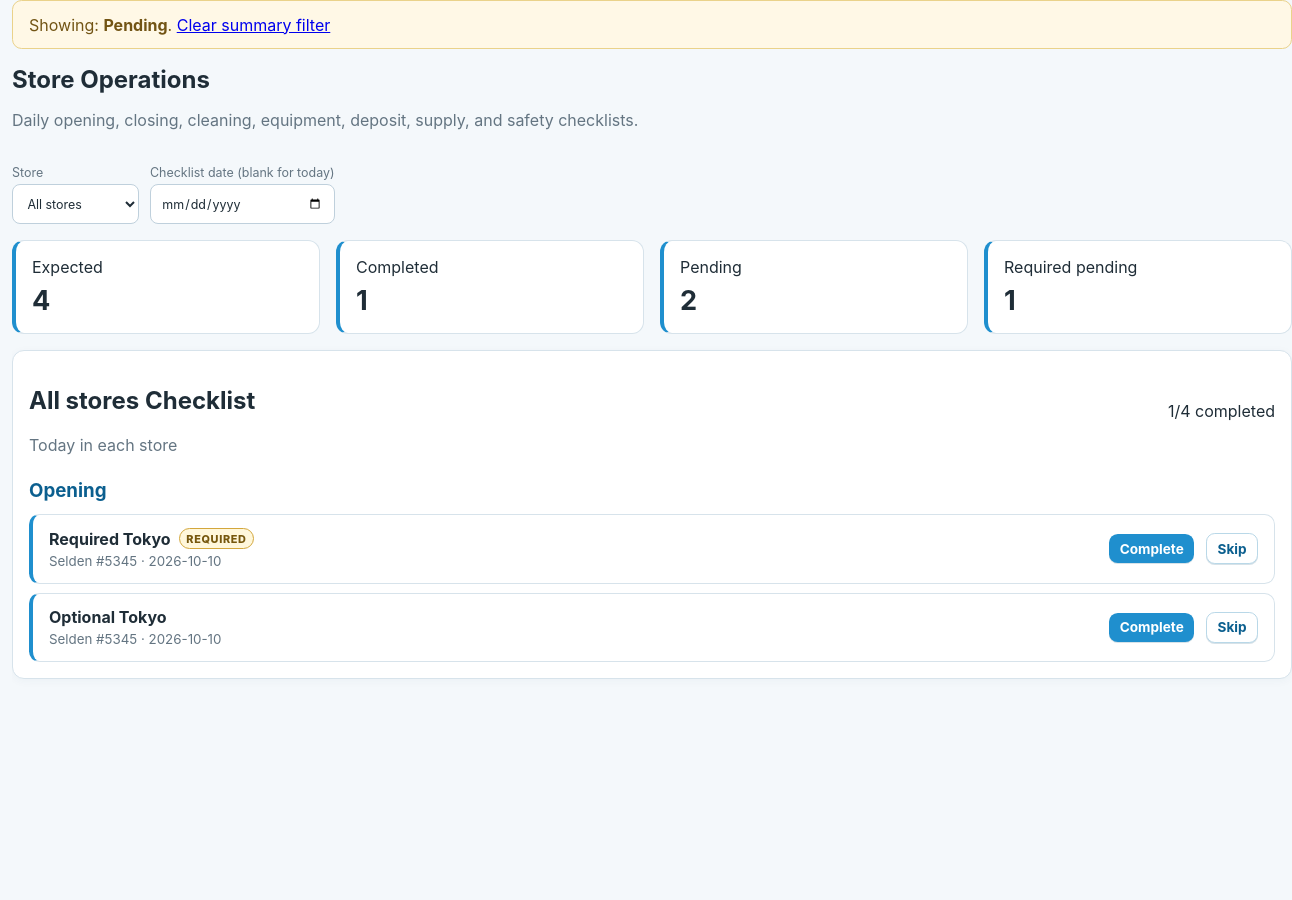
filters checklist cards and completes an all-store item using its local date
Expected: the text "Required Tokyo" is shown, top-left (49, 529), bottom-right (171, 549)
Expected: the text "Optional Tokyo" is shown, top-left (49, 607), bottom-right (167, 627)
Click the link "Required pending 1": (1071, 267) top-left (984, 240), bottom-right (1291, 334)
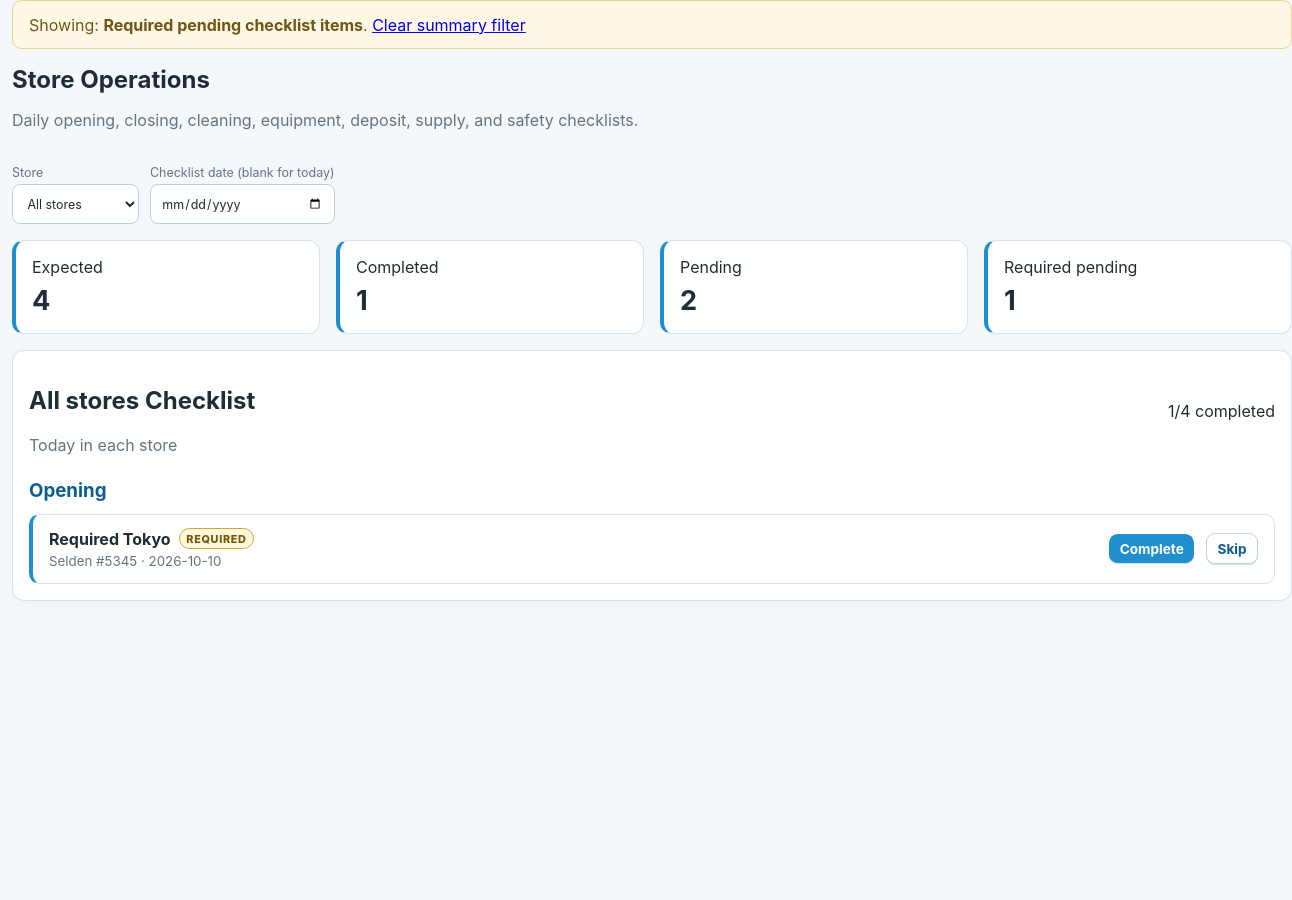
Expected: the text "Required Tokyo" is shown, top-left (49, 529), bottom-right (171, 549)
Now the text "Optional Tokyo" is gone
Click the button "Complete": (1152, 549) top-left (1109, 534), bottom-right (1194, 563)
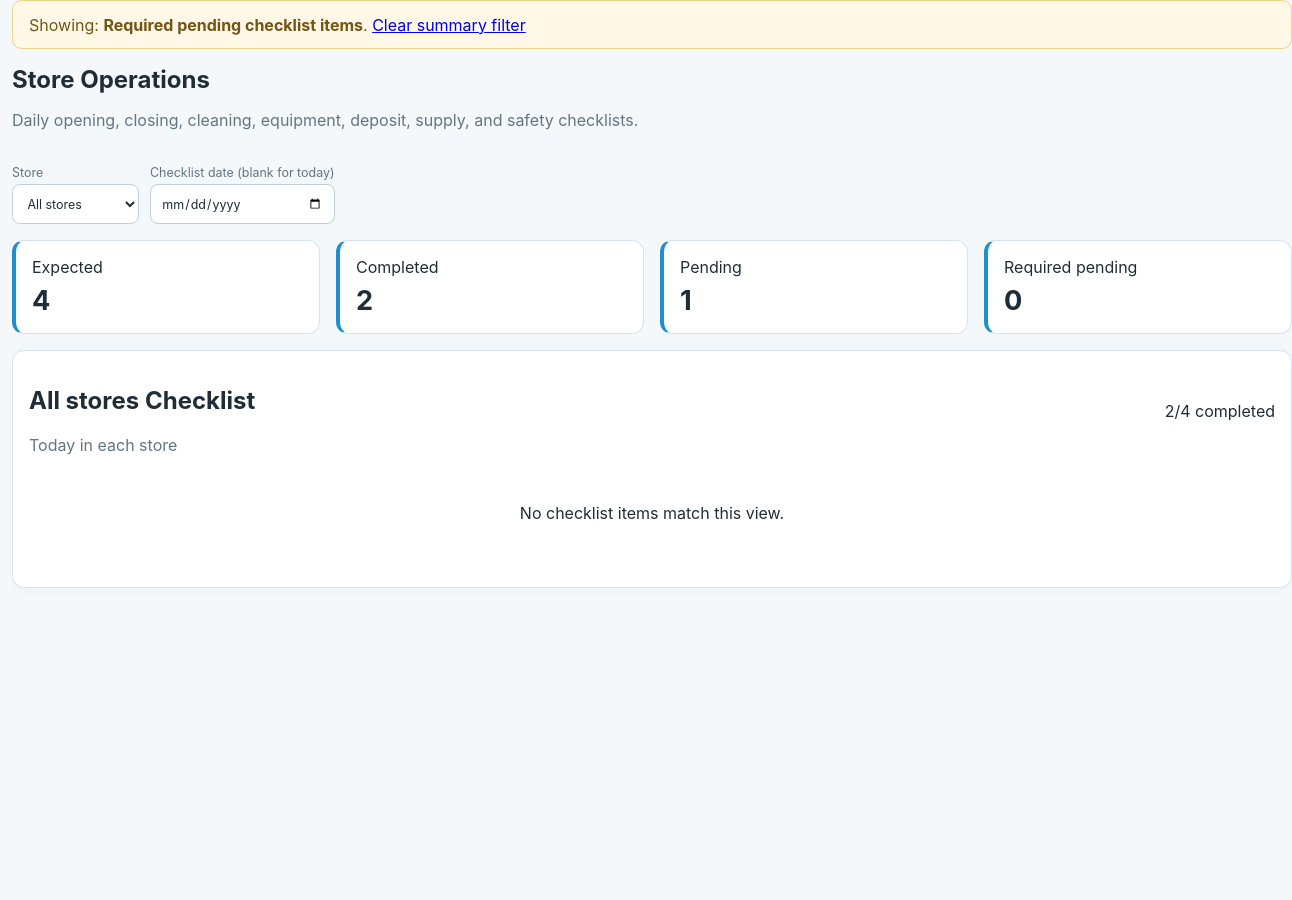
Now the link "Completed 2" is shown
Now the text "Required Tokyo" is gone
Click the link "Completed 2": (397, 267) top-left (336, 240), bottom-right (644, 334)
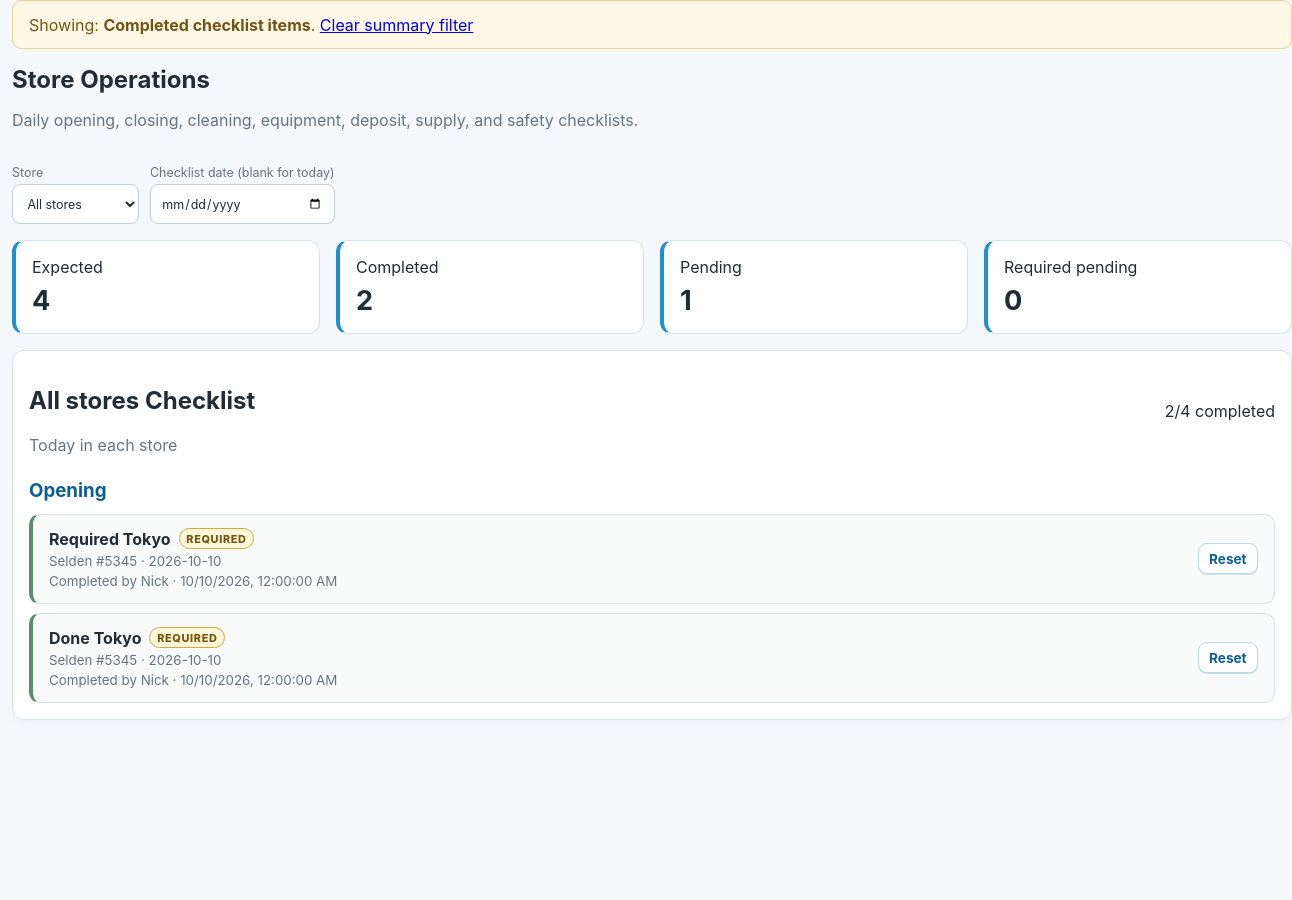
Now the text "Required Tokyo" is shown, box top-left (49, 529), bottom-right (171, 549)
Now the text "Done Tokyo" is shown, box top-left (49, 628), bottom-right (142, 648)
